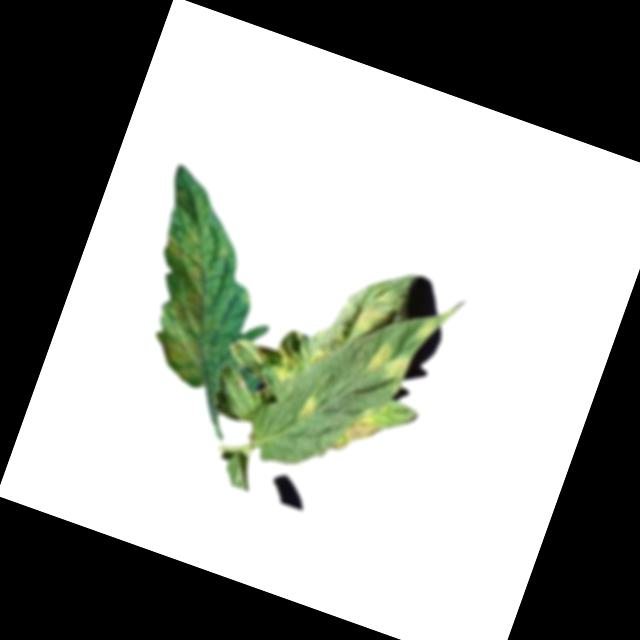Leaf_Mold: (120, 210, 251, 389), (269, 331, 334, 393), (330, 398, 390, 463), (351, 276, 400, 335), (363, 333, 416, 385), (297, 390, 321, 421)
